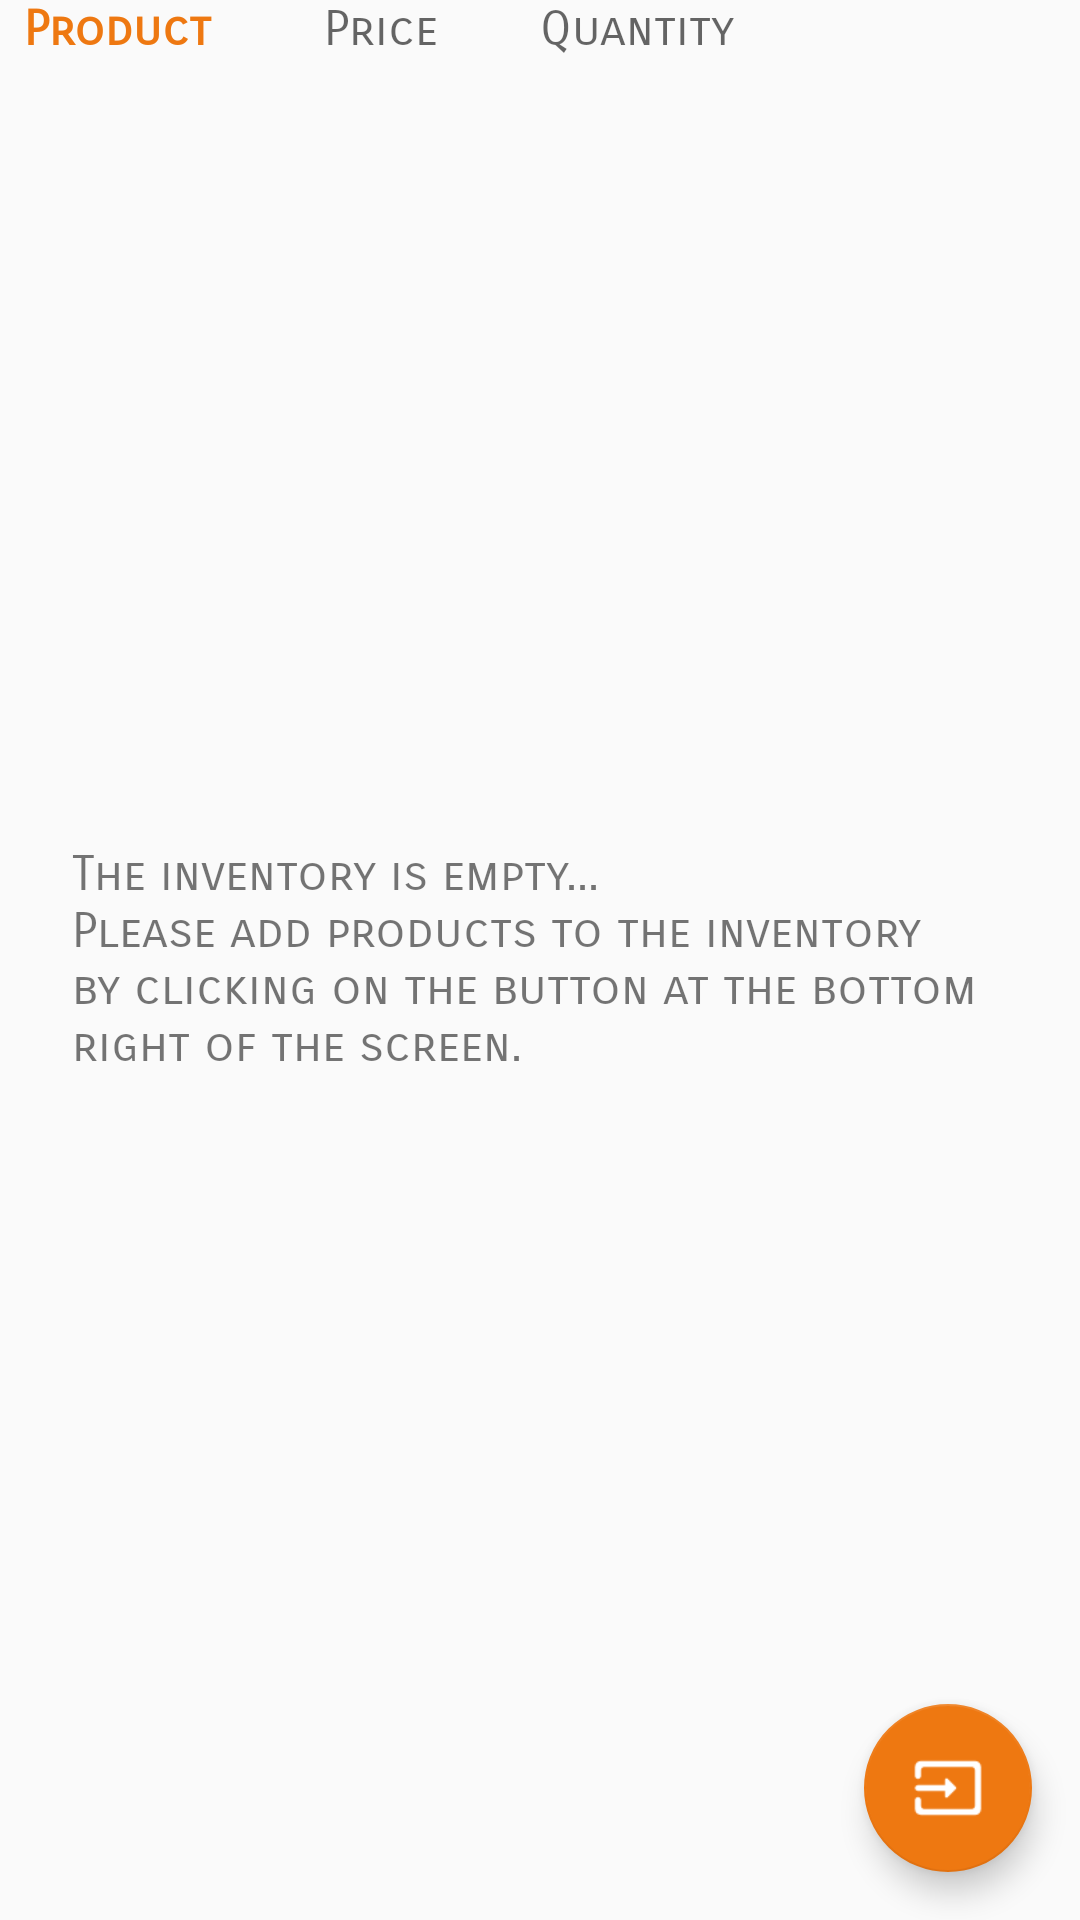

Icons on this 1080 x 1920 Android screen, each with the point to tap as point (x, y):
input: point (948, 1788)
